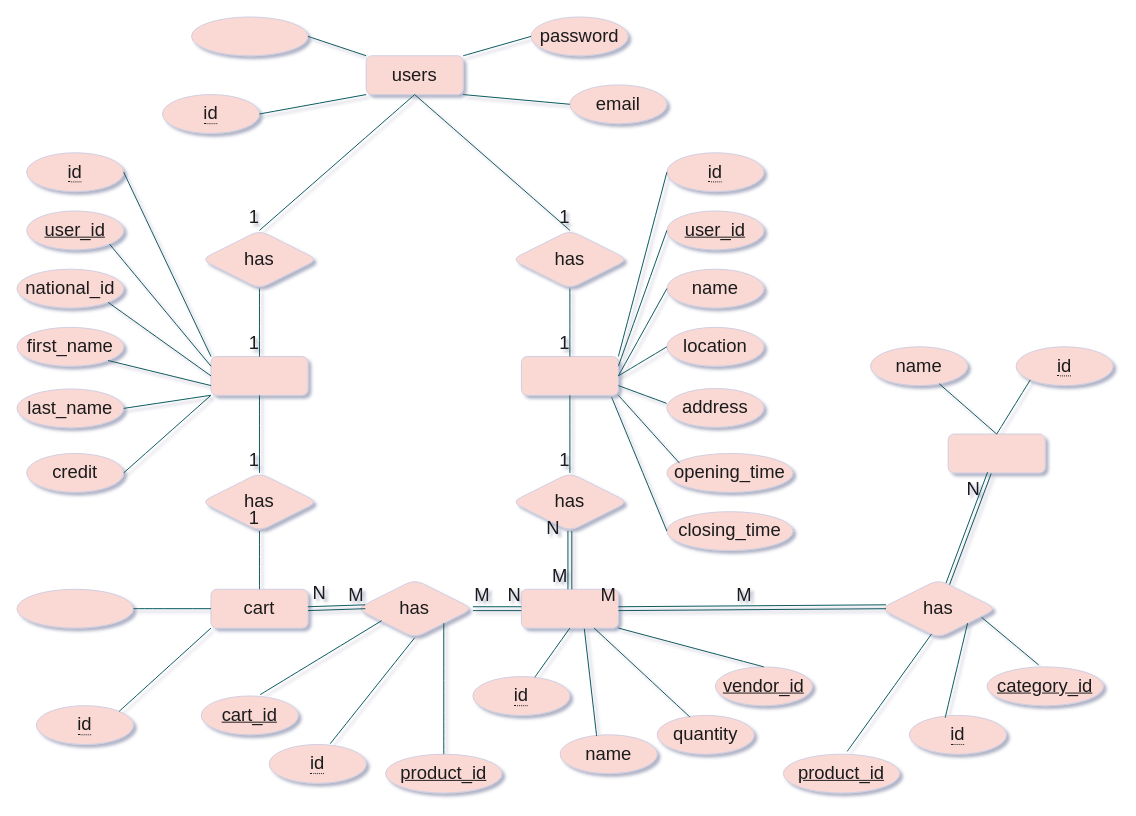
This 1136x816 diagram has some shape labels left out. Here are the shapes that lost their labels. From the top down, the box of each, then its label:
(191, 16, 308, 56): user_name
(210, 356, 308, 395): accounts
(520, 356, 618, 395): vendors
(947, 433, 1045, 473): categories
(16, 588, 133, 628): account_id
(520, 588, 618, 628): products
